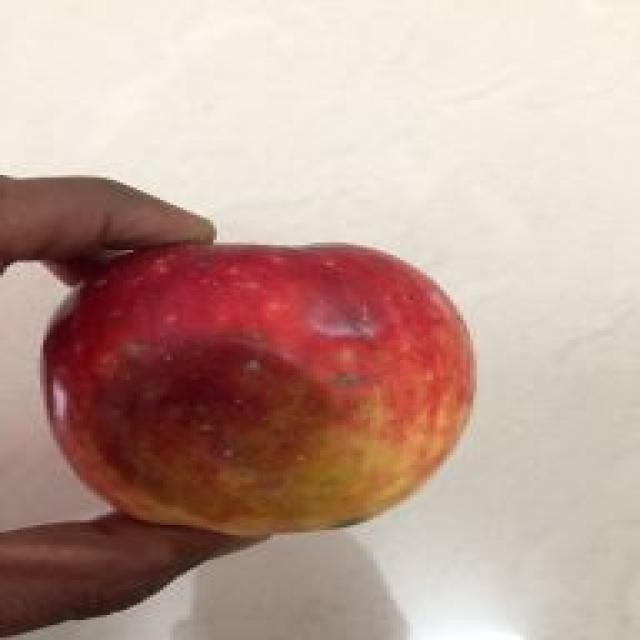Rotten_Apple: (44, 222, 498, 563)
